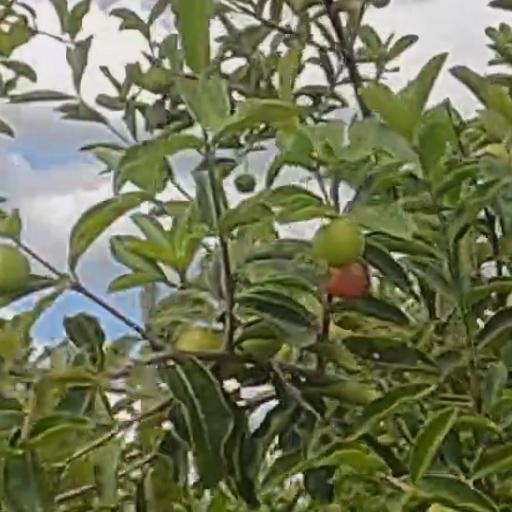acerola: (315, 220, 367, 262), (328, 266, 372, 297), (1, 248, 31, 291)
